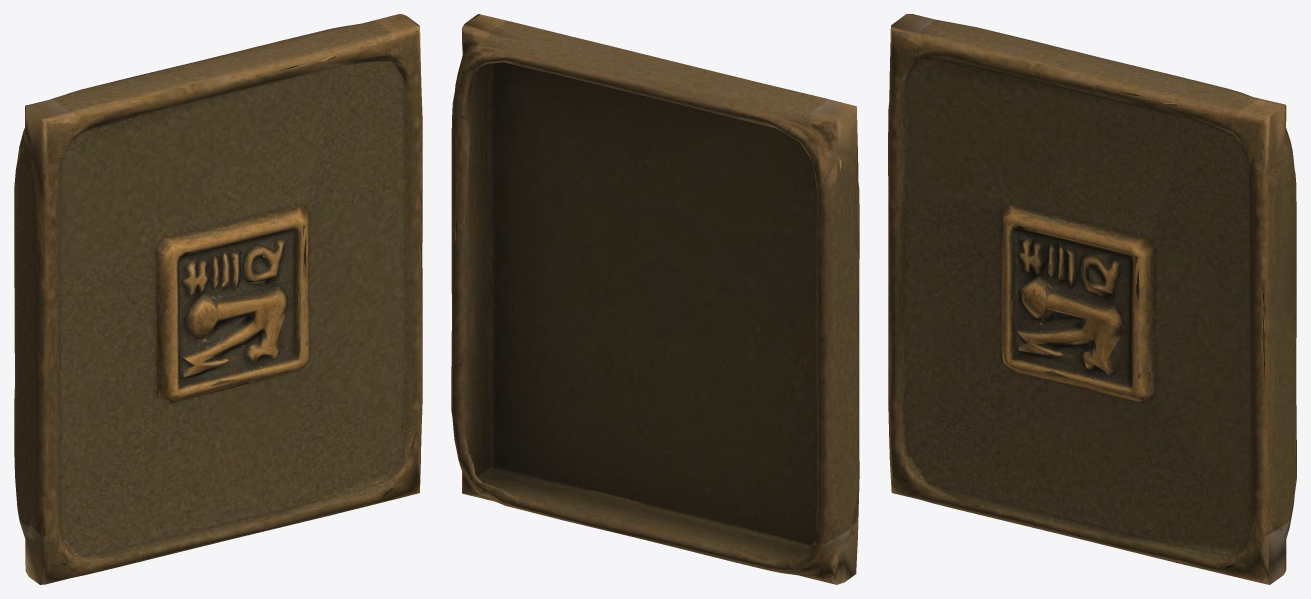
The model's file is glyph_wall.glb.
The picture shows the model from 3 angles, left to right: view 1: azimuth 30°, elevation 25°; view 2: azimuth 150°, elevation 25°; view 3: azimuth 330°, elevation 25°; orthographic projection.
Bounding box in the file's own units: 1.64 × 1.9 × 0.2956.
Materials: 1 (1 with a texture image).
